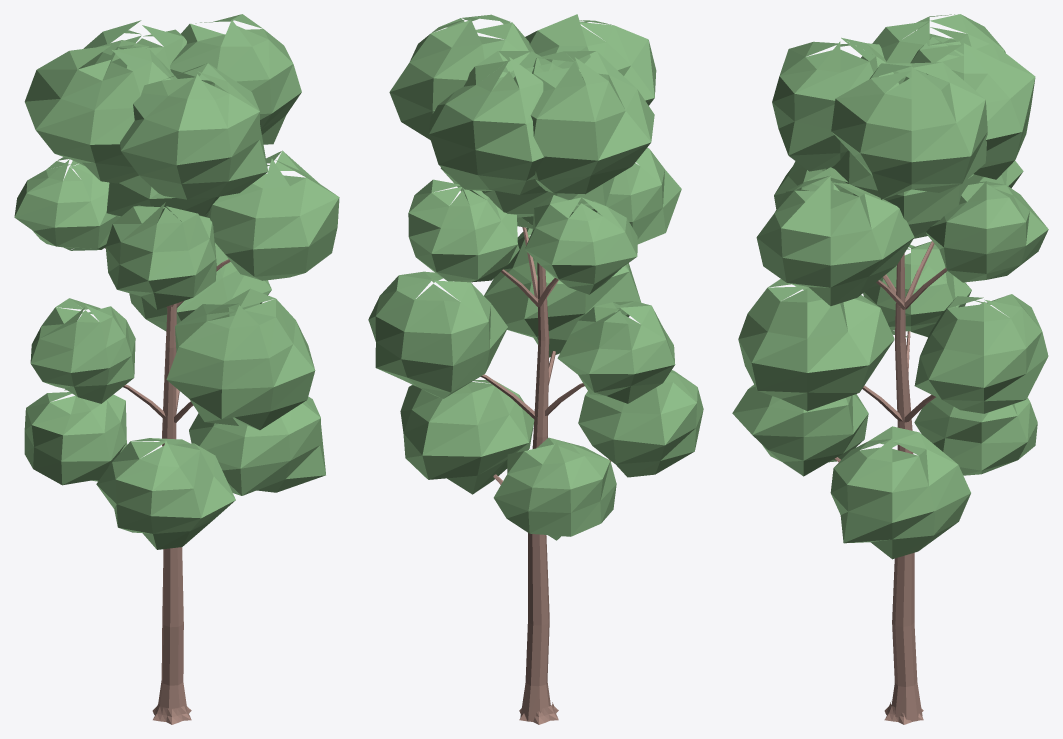
The model's file is tree-wild-cherry.glb.
The picture shows the model from 3 angles, left to right: view 1: azimuth 30°, elevation 25°; view 2: azimuth 150°, elevation 25°; view 3: azimuth 270°, elevation 25°; orthographic projection.
Parts seen in each view (by area): view 1: wild-cherry-mature; view 2: wild-cherry-mature; view 3: wild-cherry-mature.
Part boxes in pixels (<box>): wild-cherry-mature: <box>14,14,339,724</box>; wild-cherry-mature: <box>368,14,703,724</box>; wild-cherry-mature: <box>732,14,1048,724</box>.
Size of the model in its own units: 6.94 by 15.99 by 6.74.
